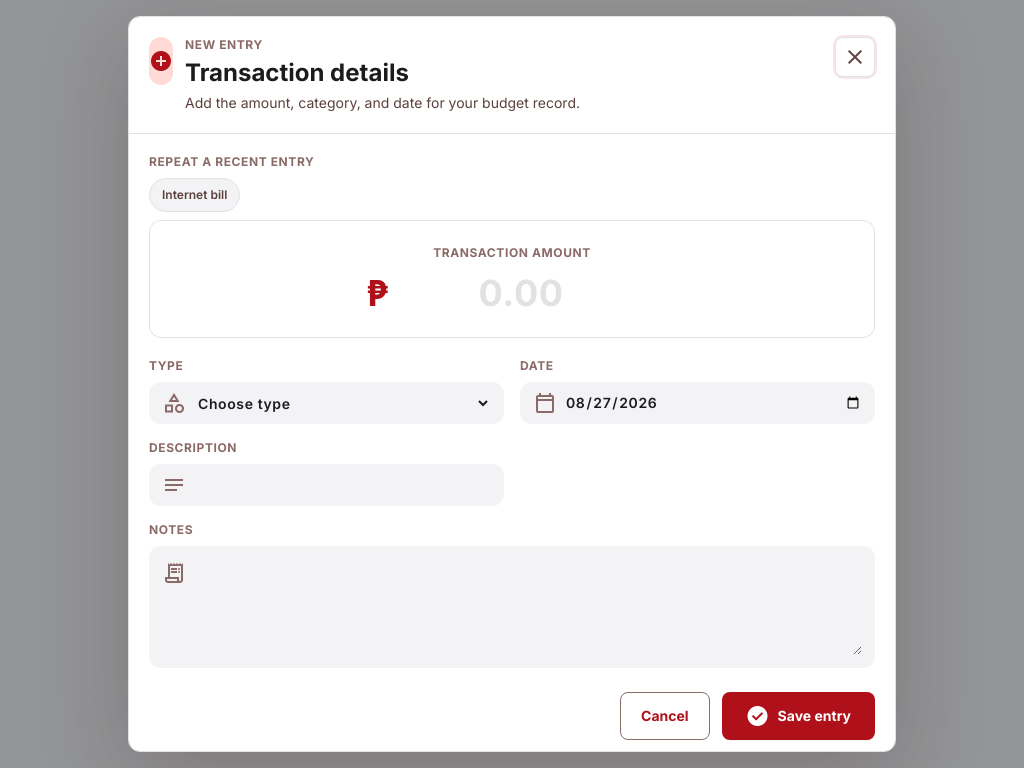
Scenario: TransactionFormModal › applies a recent transaction shortcut as an editable prefill
Click the button "Internet bill" at (195, 195), box [149,178,240,212]
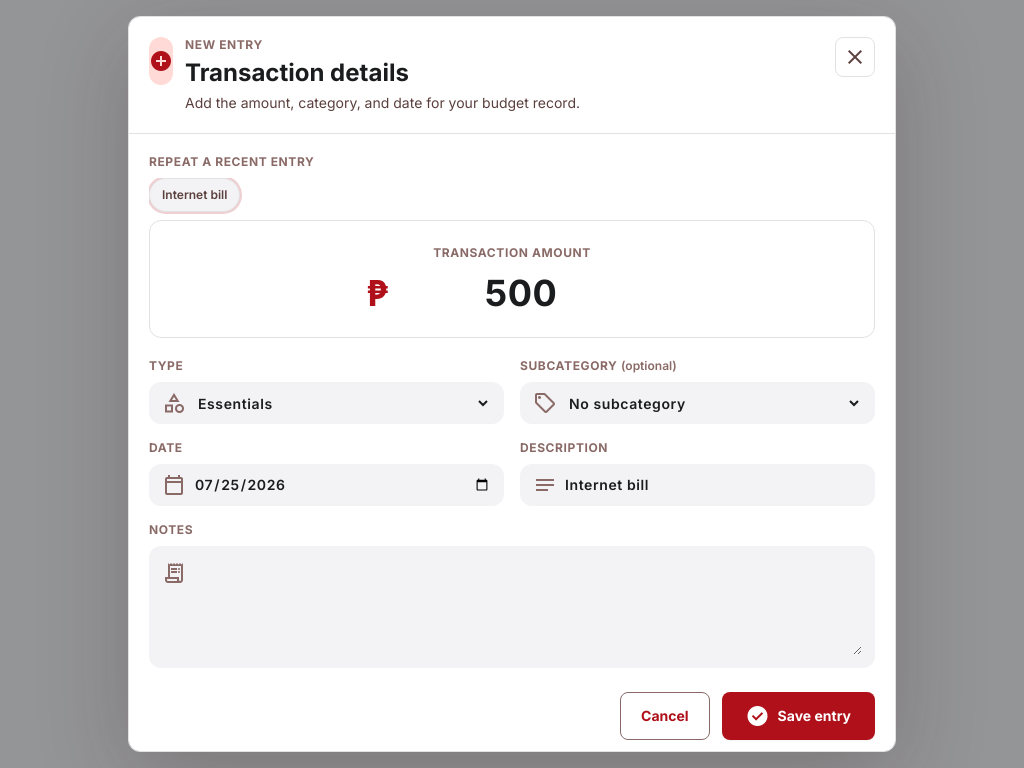
Check: the number field labelled "Transaction amount" holds "500", box [401,273,657,313]
Check: the field labelled "Description" holds "Internet bill", box [565,475,862,495]
Check: the date field labelled "Date" holds "2026-07-25", box [194,474,491,496]
